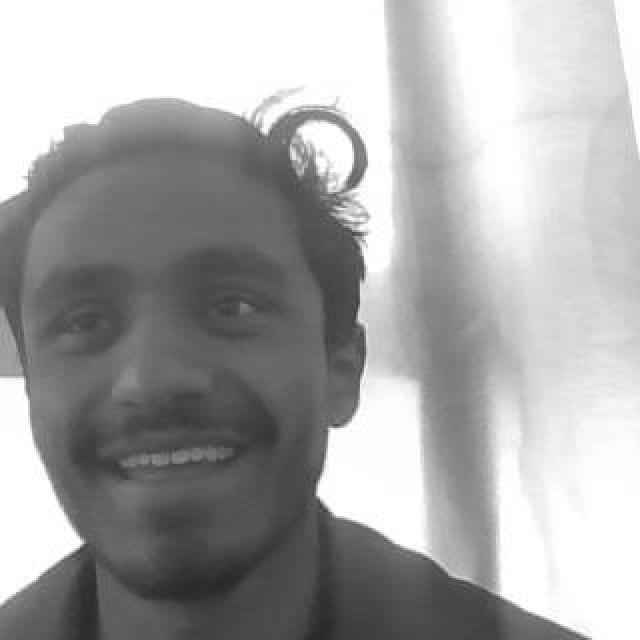Focused: (28, 167, 318, 585)
